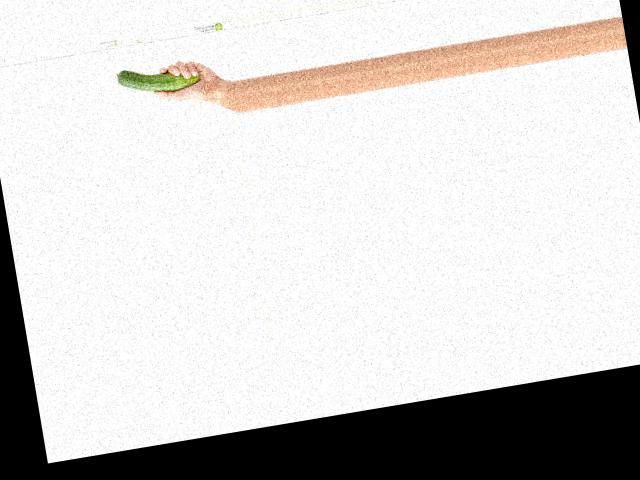cucumber: (115, 57, 200, 98)
